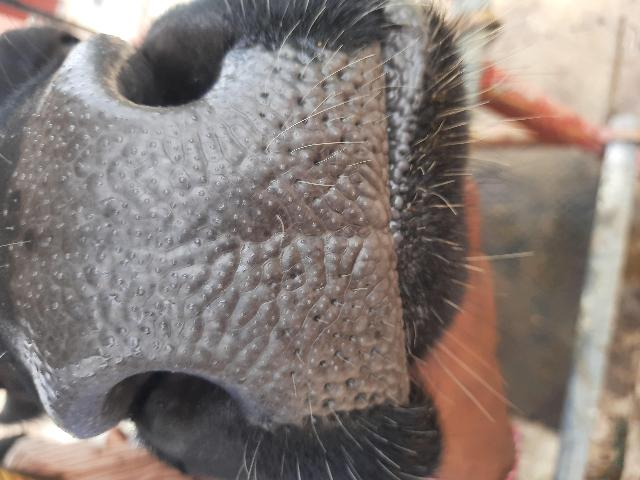Muzzle: (37, 116, 396, 366)
